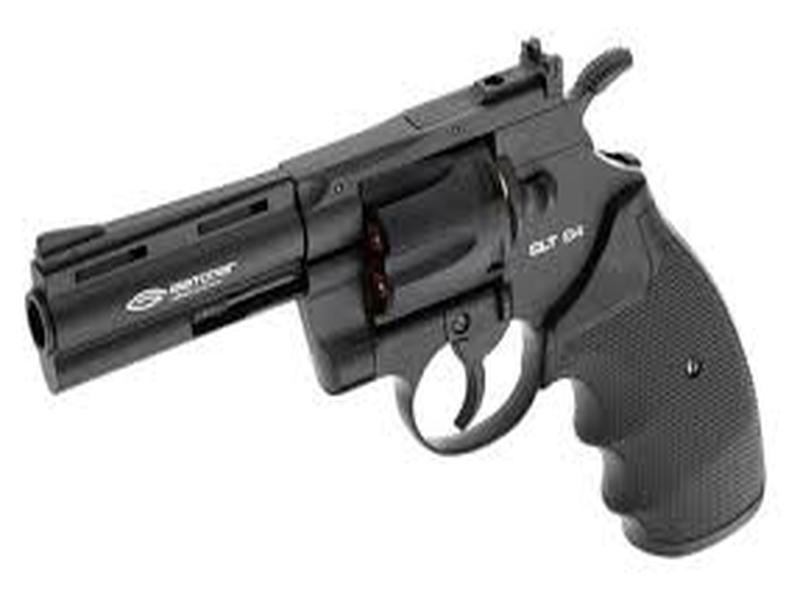gun: (23, 30, 769, 560)
